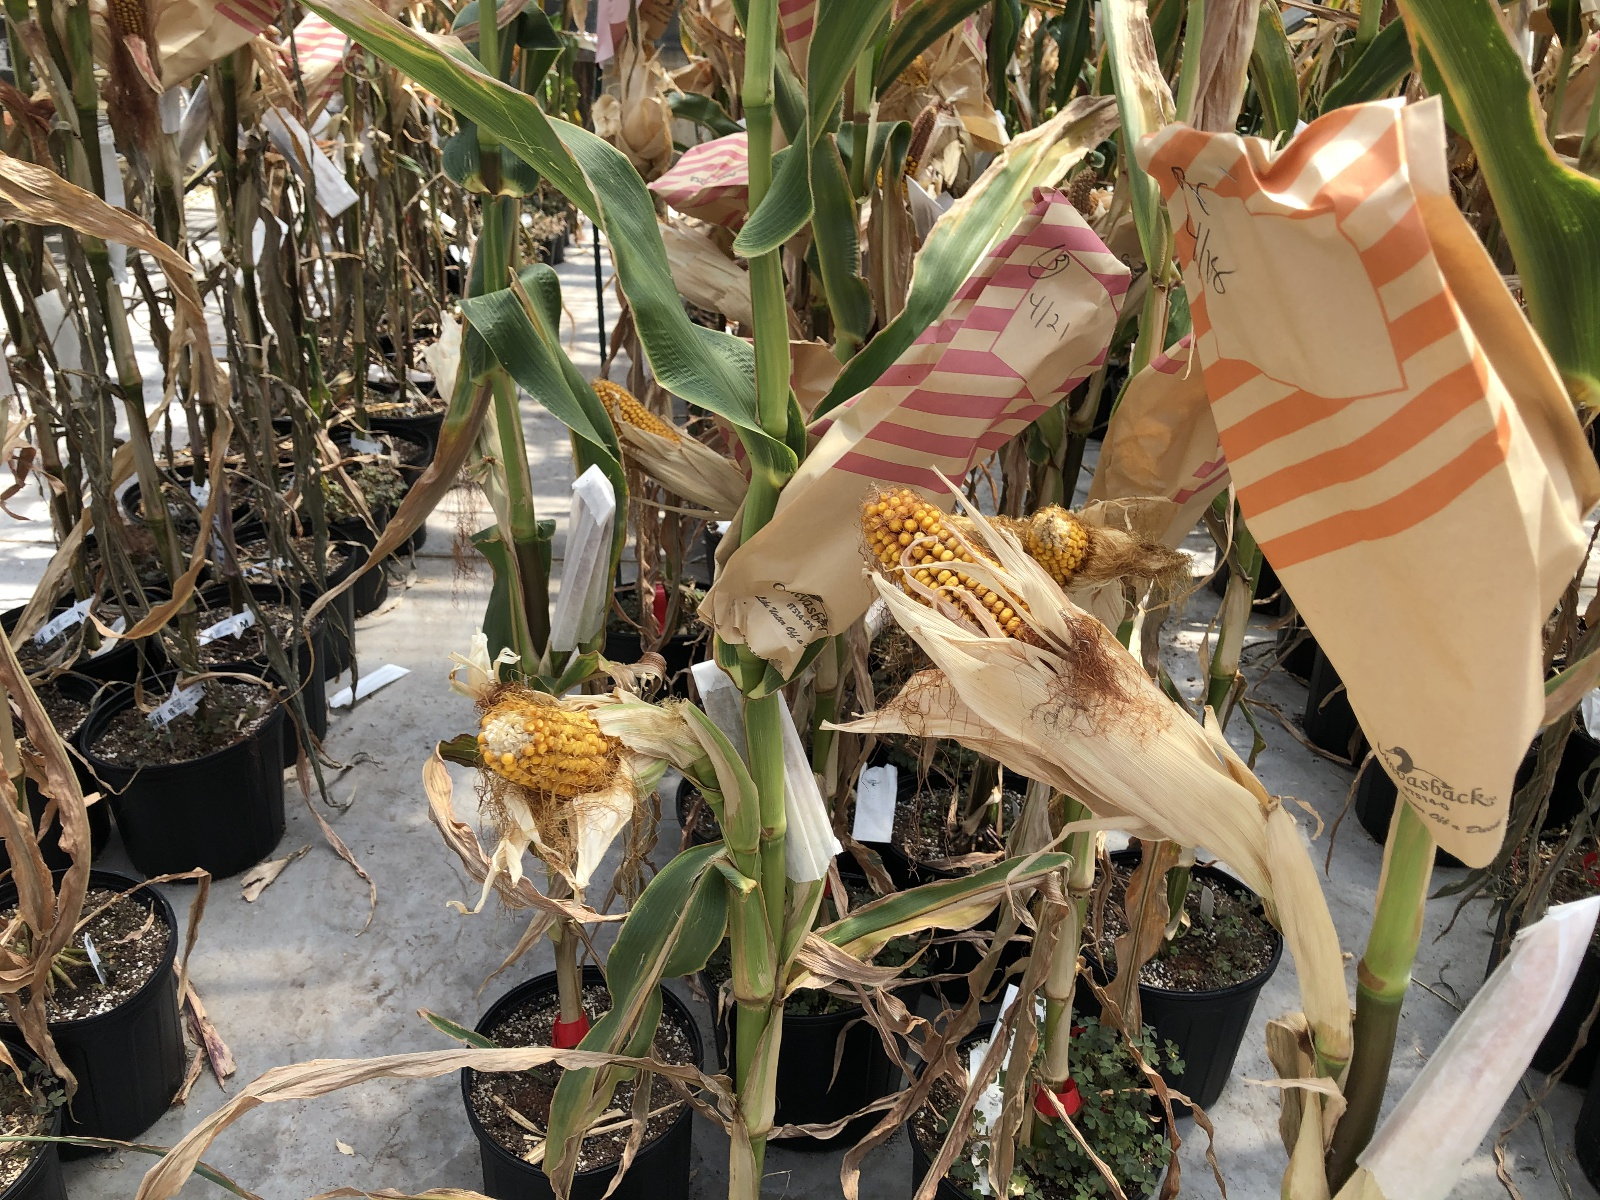ear: (850, 476, 1314, 886), (472, 676, 656, 817), (582, 363, 746, 519), (1015, 494, 1104, 584), (876, 105, 939, 193), (111, 3, 147, 102), (1067, 163, 1100, 212)
